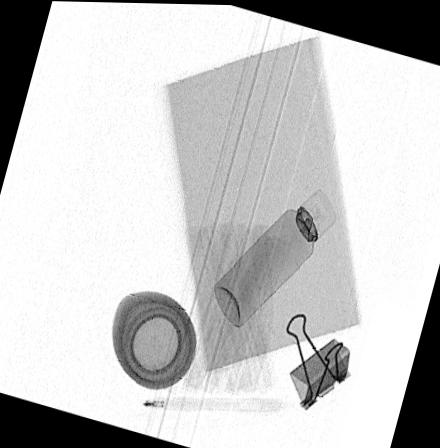Sprayer: (214, 187, 336, 325)
